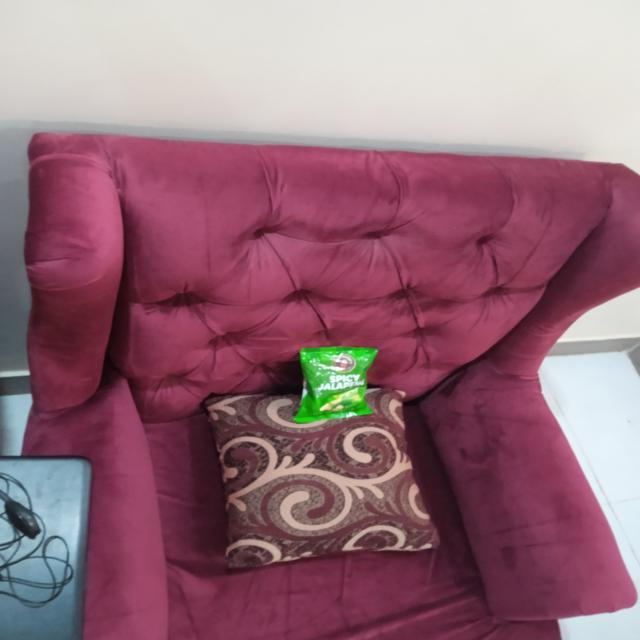Plastic: (294, 343, 381, 431)
